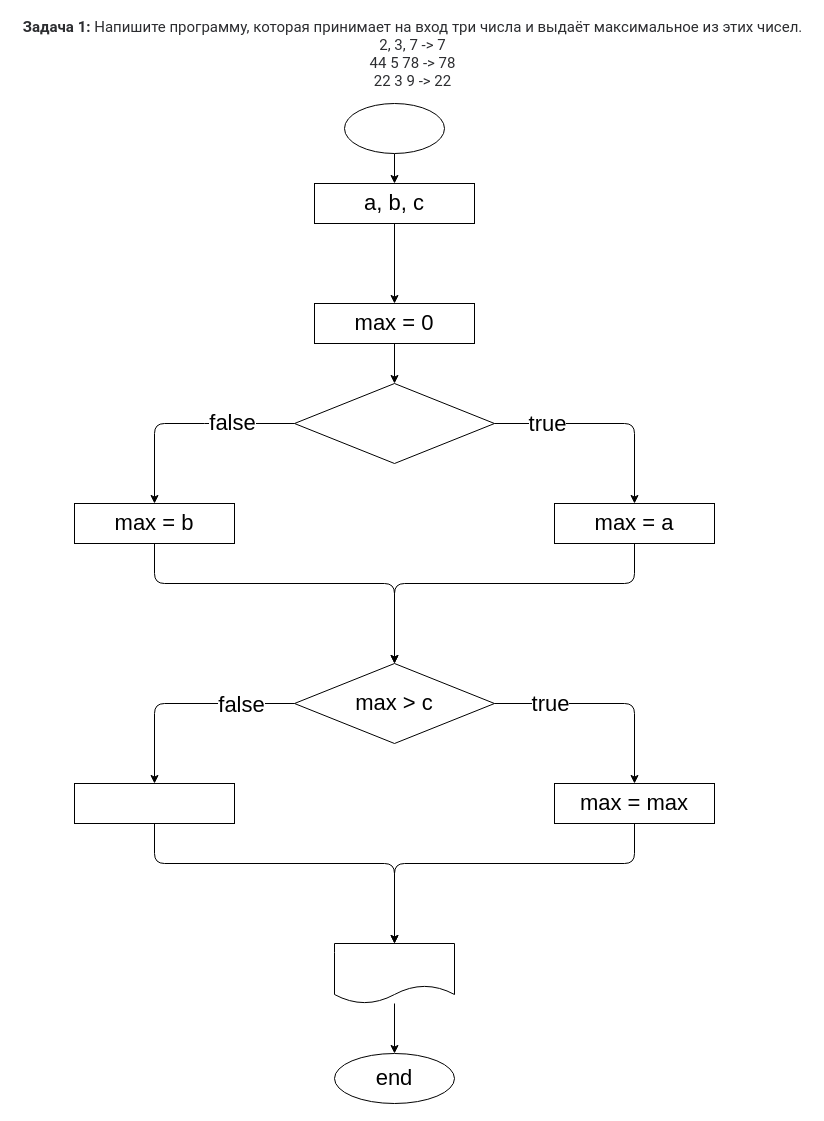
The diagram is 824 pixels wide and 1121 high, and some of its shapes have lost their labels. The shapes that lost their labels are listed below. From the top down, each one's centre as x and y in pixels, then its label:
At point 394,128: "start".
At point 394,423: "a > b".
At point 154,803: "max = c".
At point 394,973: "max".
